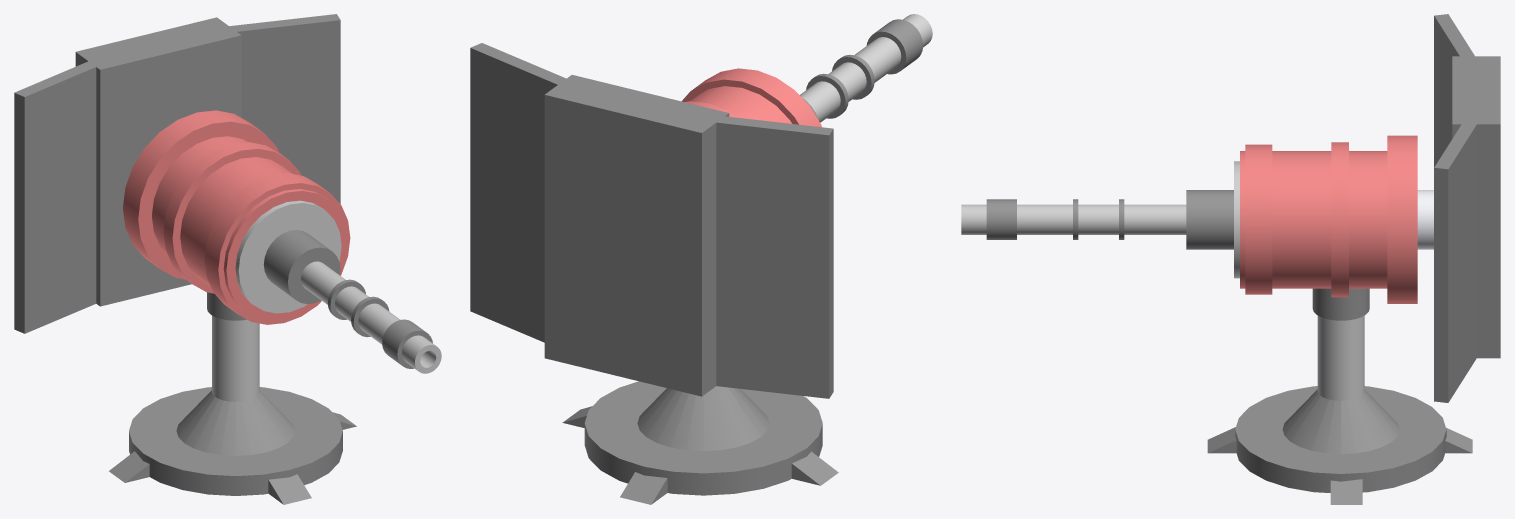
Rendered from torreta1.fbx.
3 views of the same model, side by side, from view 1: azimuth 30°, elevation 25°; view 2: azimuth 150°, elevation 25°; view 3: azimuth 270°, elevation 25° (orthographic). The views are drawn at different scales.
Visible parts, largest first — view 1: mergedBlocks_custom3_Clone__0.165, mergedBlocks_custom3_Clone__0.159, mergedBlocks_custom3_Clone__0.153, mergedBlocks_custom3_Clone__0.442, mergedBlocks_custom1_Clone__0.098, mergedBlocks_custom2_Clone__0.161, mergedBlocks_custom2_Clone__0.168, mergedBlocks_custom2_Clone__0.159, mergedBlocks_custom3_Clone__0.161, mergedBlocks_custom2_Clone__0.162, mergedBlocks_custom3_Clone__0.163, mergedBlocks_custom1_Clone__0.089 (+25 smaller); view 2: mergedBlocks_custom3_Clone__0.158, mergedBlocks_custom3_Clone__0.164, mergedBlocks_custom3_Clone__0.152, mergedBlocks_custom3_Clone__0.442, mergedBlocks_custom3_Clone__0.157, mergedBlocks_custom3_Clone__0.161, mergedBlocks_custom3_Clone__0.439, mergedBlocks_custom3_Clone__0.099, mergedBlocks_custom2_Clone__0.159, mergedBlocks_custom1_Clone__0.103, mergedBlocks_custom3_Clone__0.101, mergedBlocks_custom1_Clone__0.101 (+11 smaller); view 3: mergedBlocks_custom2_Clone__0.158, mergedBlocks_custom3_Clone__0.442, mergedBlocks_custom3_Clone__0.152, mergedBlocks_custom3_Clone__0.160, mergedBlocks_custom2_Clone__0.159, mergedBlocks_custom1_Clone__0.100, mergedBlocks_custom3_Clone__0.154, mergedBlocks_custom2_Clone__0.164, mergedBlocks_custom3_Clone__0.161, mergedBlocks_custom1_Clone__0.088, mergedBlocks_custom2_Clone__0.170, mergedBlocks_custom3_Clone__0.437 (+22 smaller).
Boxes of the visible parts, bbox=[...] form: mergedBlocks_custom3_Clone__0.165: bbox=[24, 67, 96, 333]; mergedBlocks_custom3_Clone__0.159: bbox=[100, 35, 241, 306]; mergedBlocks_custom3_Clone__0.153: bbox=[237, 20, 340, 203]; mergedBlocks_custom3_Clone__0.442: bbox=[129, 387, 342, 475]; mergedBlocks_custom1_Clone__0.098: bbox=[238, 203, 341, 313]; mergedBlocks_custom2_Clone__0.161: bbox=[152, 167, 243, 310]; mergedBlocks_custom2_Clone__0.168: bbox=[138, 121, 278, 279]; mergedBlocks_custom2_Clone__0.159: bbox=[170, 136, 328, 221]; mergedBlocks_custom3_Clone__0.161: bbox=[76, 17, 240, 69]; mergedBlocks_custom2_Clone__0.162: bbox=[226, 191, 347, 320]; mergedBlocks_custom3_Clone__0.163: bbox=[14, 93, 24, 333]; mergedBlocks_custom1_Clone__0.089: bbox=[229, 319, 258, 401]; mergedBlocks_custom3_Clone__0.158: bbox=[544, 95, 701, 396]; mergedBlocks_custom3_Clone__0.164: bbox=[716, 122, 829, 398]; mergedBlocks_custom3_Clone__0.152: bbox=[470, 48, 557, 342]; mergedBlocks_custom3_Clone__0.442: bbox=[584, 381, 822, 473]; mergedBlocks_custom3_Clone__0.157: bbox=[702, 113, 729, 396]; mergedBlocks_custom3_Clone__0.161: bbox=[545, 75, 728, 132]; mergedBlocks_custom3_Clone__0.439: bbox=[588, 436, 734, 495]; mergedBlocks_custom3_Clone__0.099: bbox=[646, 390, 703, 450]; mergedBlocks_custom2_Clone__0.159: bbox=[689, 86, 789, 123]; mergedBlocks_custom1_Clone__0.103: bbox=[812, 22, 932, 122]; mergedBlocks_custom3_Clone__0.101: bbox=[717, 387, 769, 447]; mergedBlocks_custom1_Clone__0.101: bbox=[799, 14, 927, 106]; mergedBlocks_custom2_Clone__0.158: bbox=[1240, 196, 1387, 284]; mergedBlocks_custom3_Clone__0.442: bbox=[1235, 386, 1446, 473]; mergedBlocks_custom3_Clone__0.152: bbox=[1448, 125, 1476, 402]; mergedBlocks_custom3_Clone__0.160: bbox=[1452, 124, 1500, 358]; mergedBlocks_custom2_Clone__0.159: bbox=[1240, 151, 1387, 196]; mergedBlocks_custom1_Clone__0.100: bbox=[961, 214, 1186, 234]; mergedBlocks_custom3_Clone__0.154: bbox=[1434, 167, 1448, 402]; mergedBlocks_custom2_Clone__0.164: bbox=[1387, 191, 1417, 299]; mergedBlocks_custom3_Clone__0.161: bbox=[1452, 56, 1500, 124]; mergedBlocks_custom1_Clone__0.088: bbox=[1324, 318, 1357, 400]; mergedBlocks_custom2_Clone__0.170: bbox=[1245, 194, 1272, 290]; mergedBlocks_custom3_Clone__0.437: bbox=[1266, 461, 1415, 492].
Bounding box in the file's own units: 9581 × 10200 × 14061.
